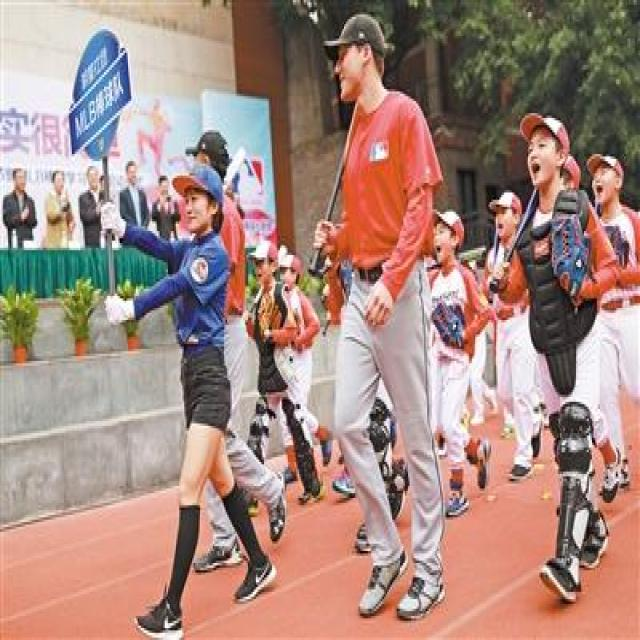non-fight: (304, 0, 448, 635), (101, 150, 280, 630), (488, 115, 621, 610), (481, 188, 547, 482), (0, 164, 40, 303), (42, 167, 78, 245)
